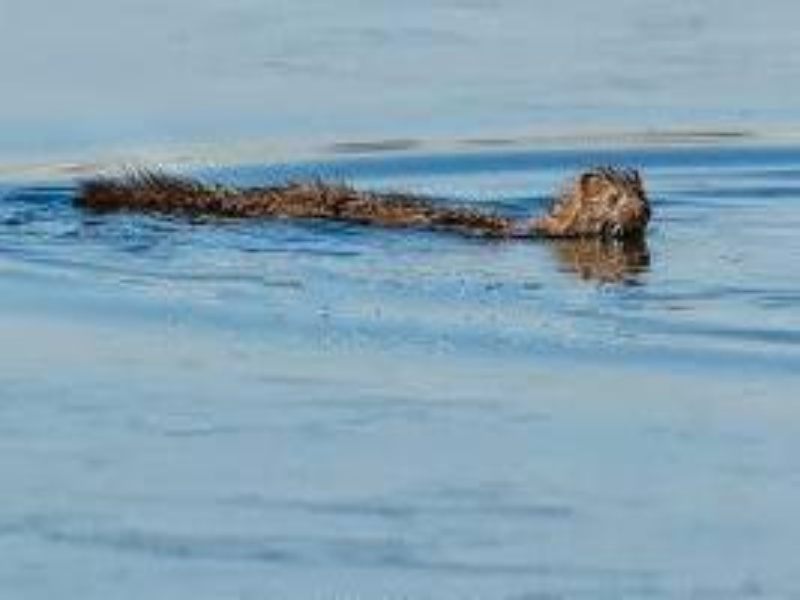minkish: (66, 154, 655, 239)
